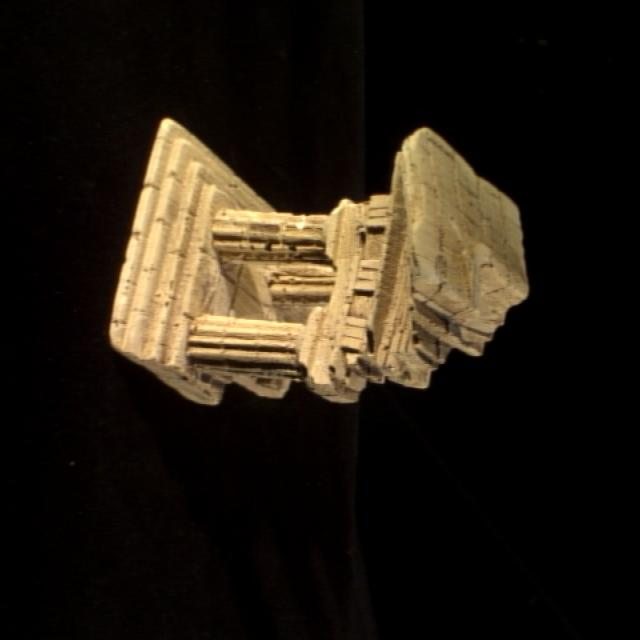Instance-Segmentation: (110, 119, 527, 404)
